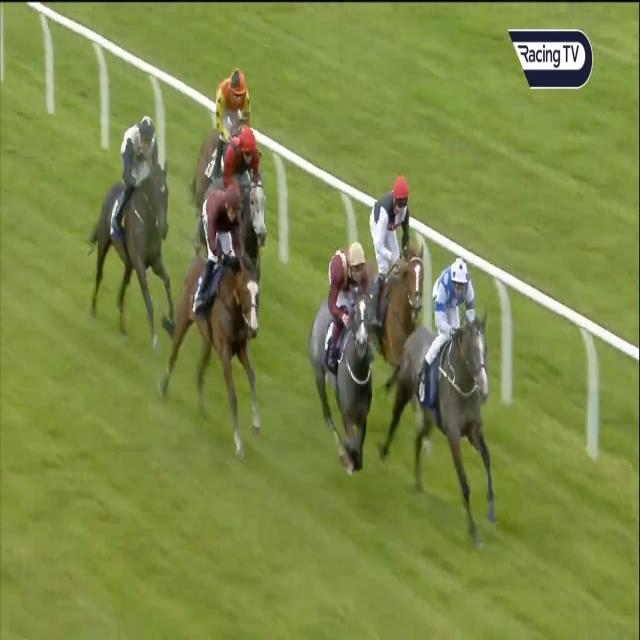horses-racing: (397, 259, 508, 532), (187, 188, 276, 445), (299, 241, 394, 481), (93, 120, 177, 338), (354, 162, 432, 360), (180, 70, 270, 174), (209, 129, 282, 257)
